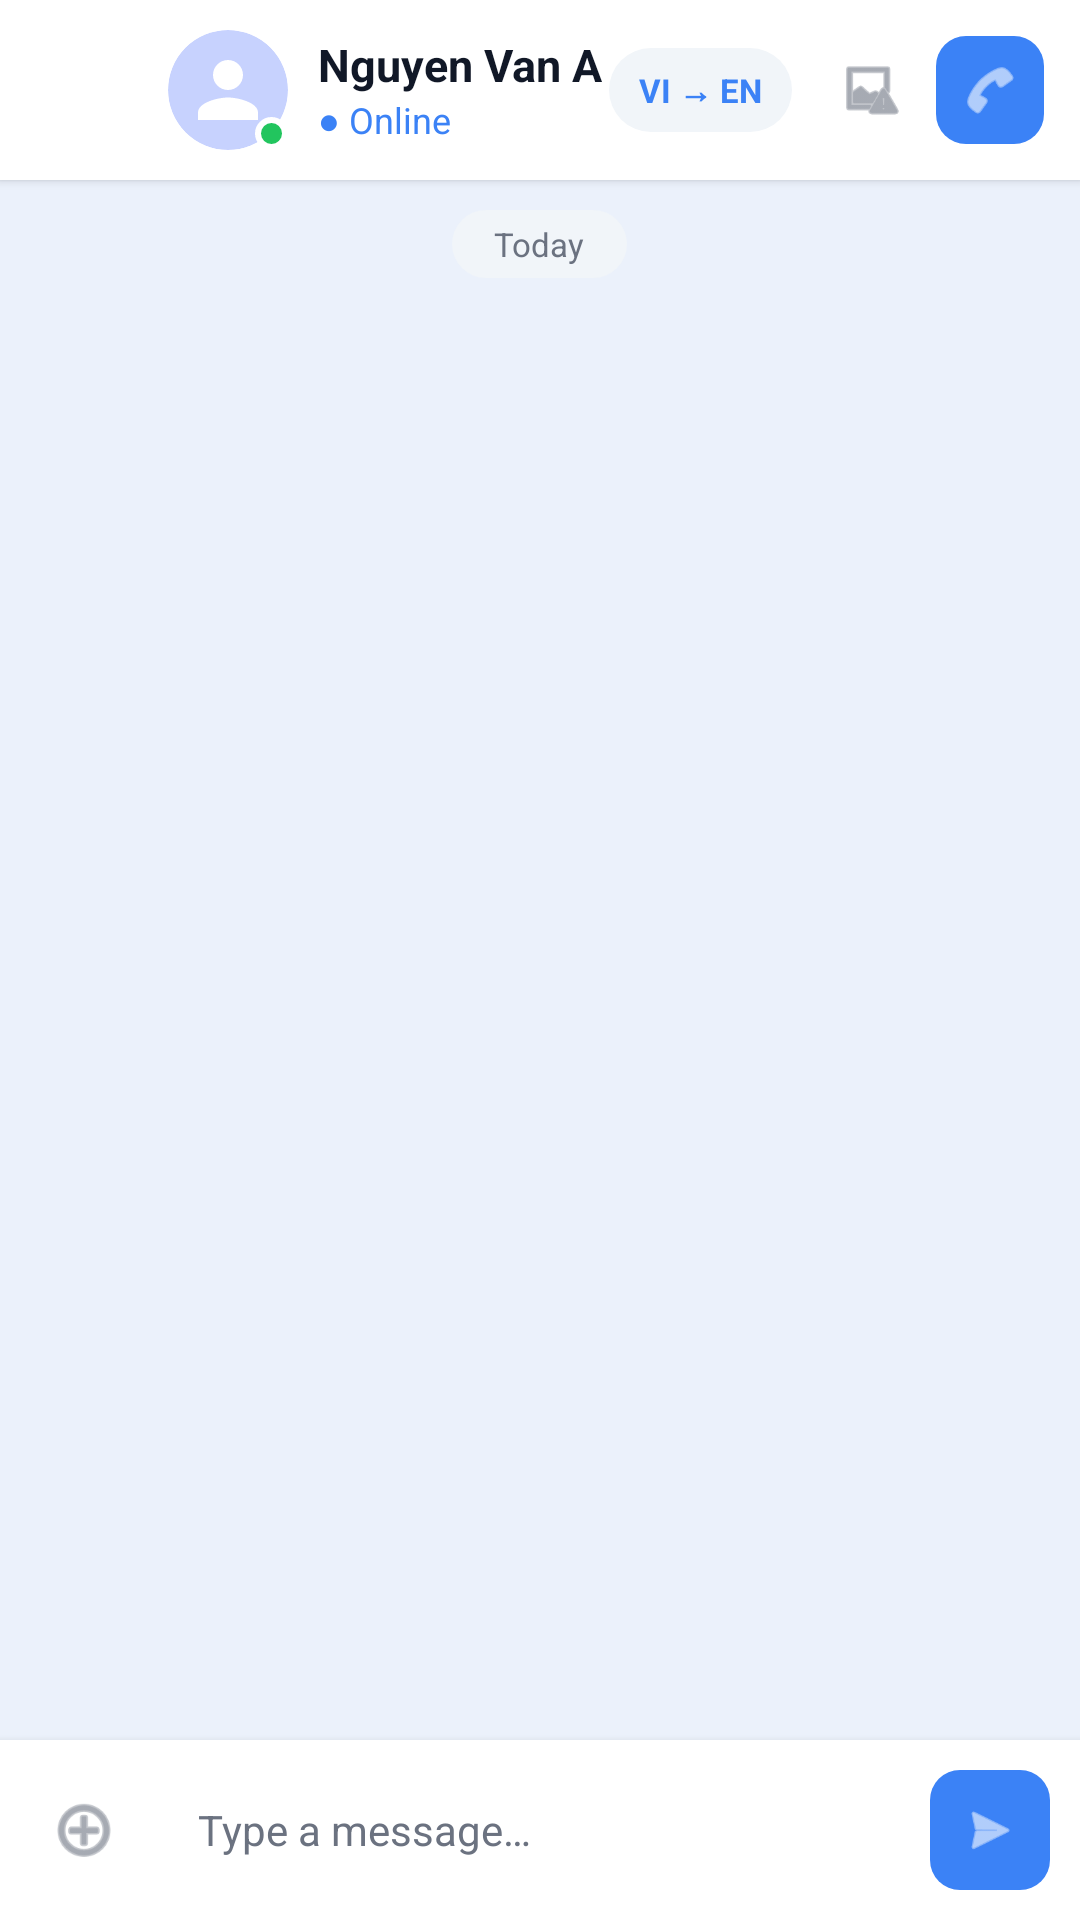

Icons on this 1080x1920 Android screen, each with its box as (x1, y1, x2, y2):
add: (57, 1804, 111, 1857)
call: (936, 36, 1044, 144)
send: (930, 1770, 1050, 1890)
